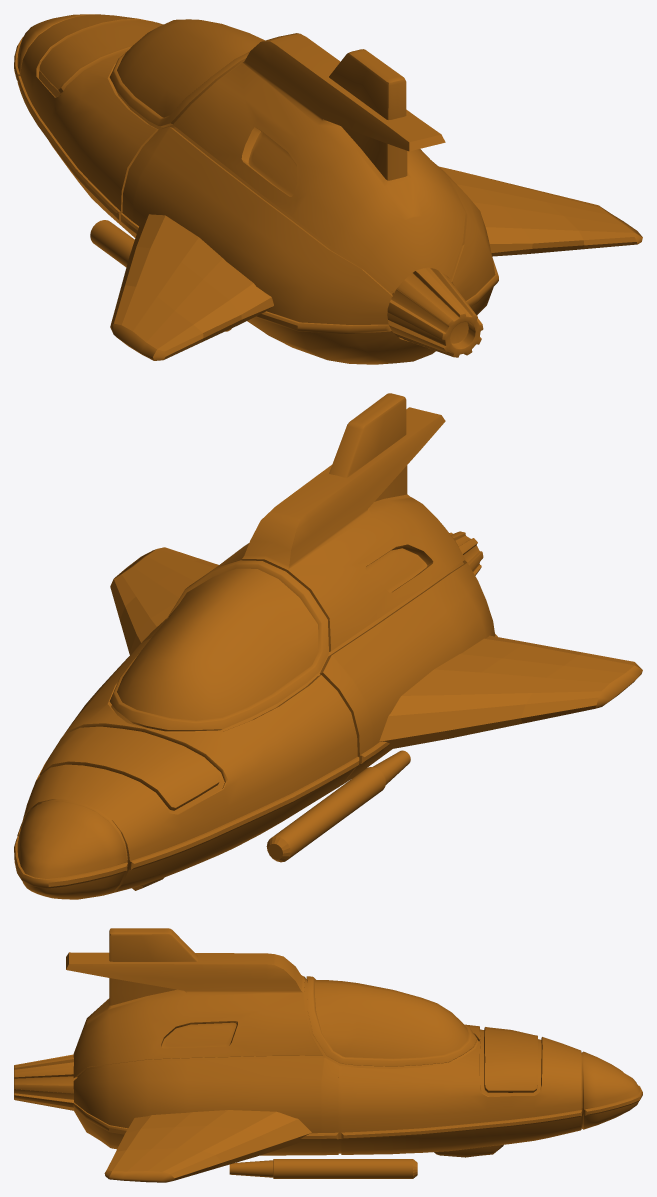
The model's file is SpaceShip01.fbx.
The picture shows the model from 3 angles, top to bottom: view 1: azimuth 30°, elevation 25°; view 2: azimuth 150°, elevation 25°; view 3: azimuth 270°, elevation 25°; orthographic projection. The views are drawn at different scales.
Visible parts, largest first — view 1: Plane001, Plane003, Cylinder002, Cylinder001; view 2: Plane001, Plane003, Cylinder001; view 3: Plane001, Plane003, Cylinder001, Cylinder002, Plane002.
Part boxes in pixels (box(x1,y1,x2,y2)): Plane001: box(14, 14, 498, 364); Plane003: box(110, 166, 642, 360); Cylinder002: box(387, 267, 483, 357); Cylinder001: box(90, 220, 231, 331); Plane001: box(14, 393, 497, 899); Plane003: box(110, 547, 642, 750); Cylinder001: box(266, 750, 410, 862); Plane001: box(66, 928, 642, 1155); Plane003: box(104, 1110, 311, 1182); Cylinder001: box(229, 1159, 417, 1178); Cylinder002: box(14, 1054, 76, 1110); Plane002: box(434, 1144, 503, 1157).
Size of the model in its own units: 506 by 300 by 757.
